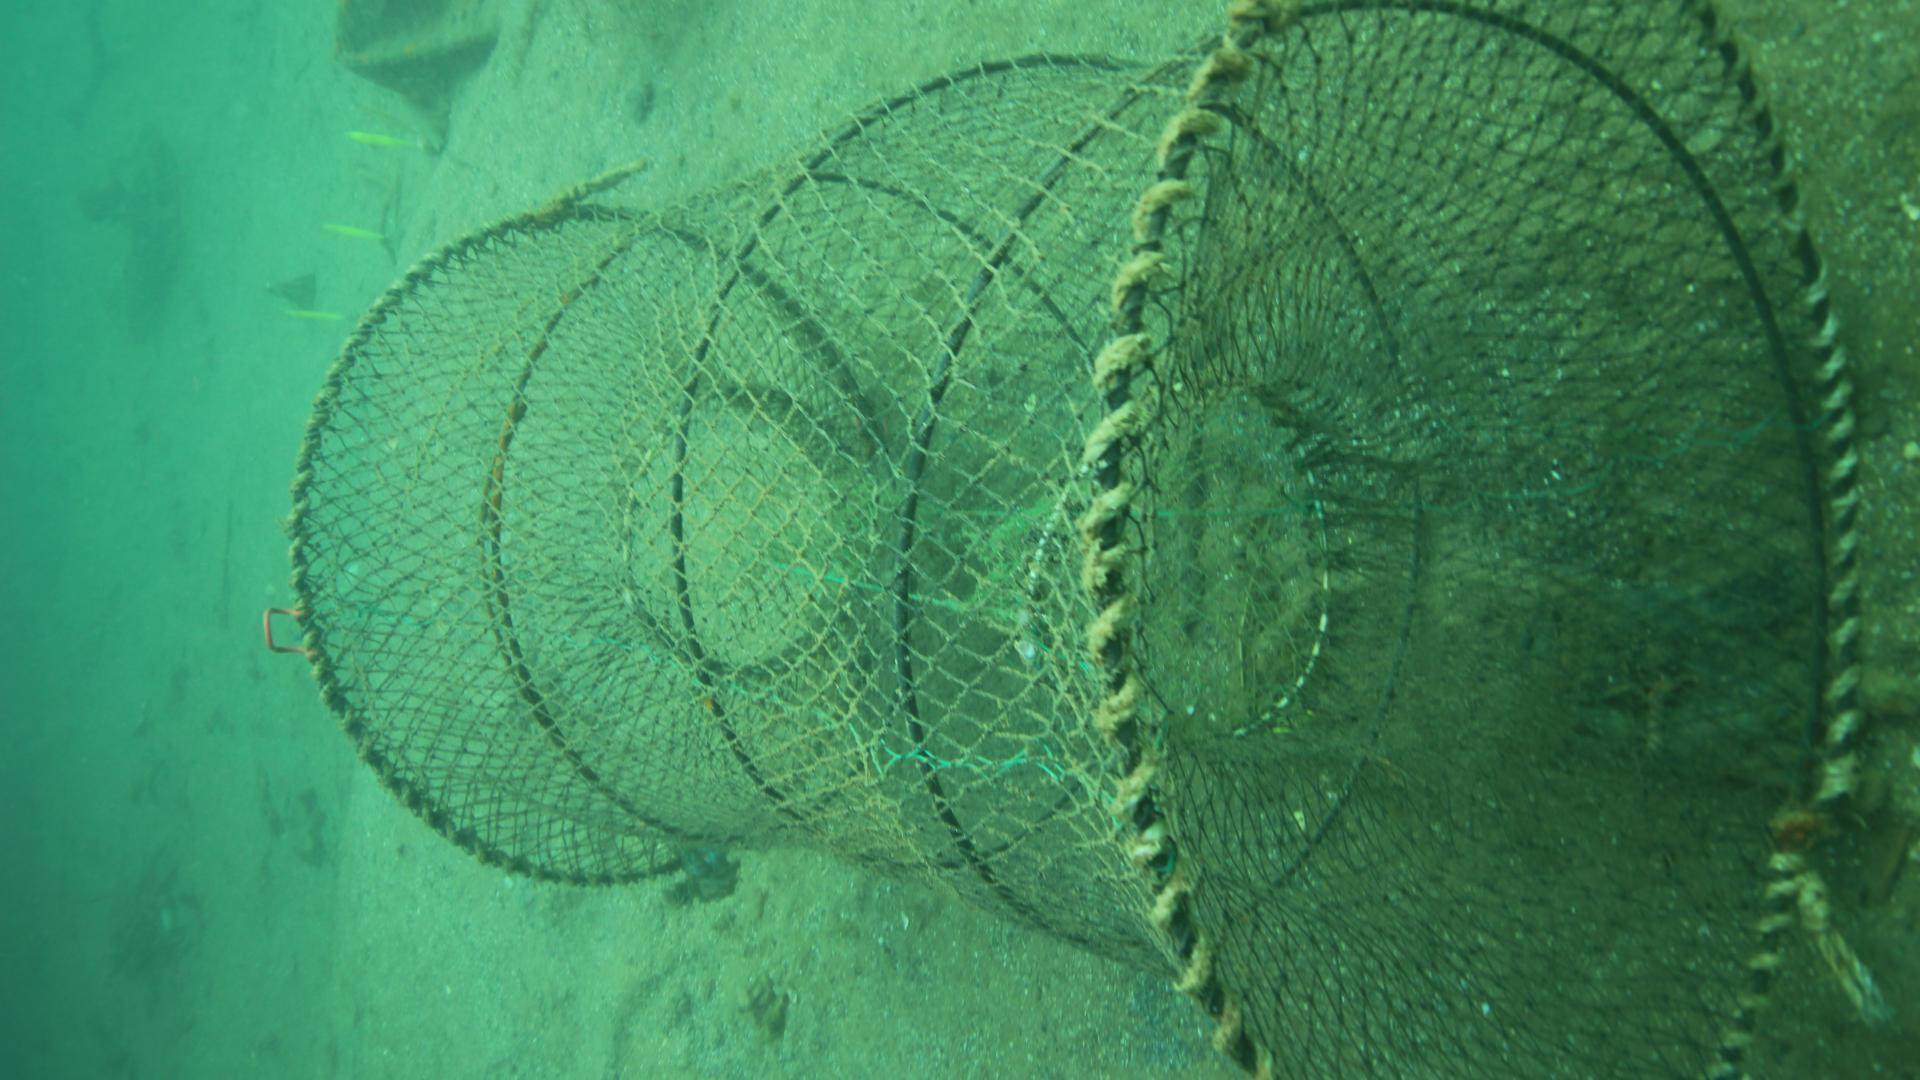spring fish trap: (261, 0, 1867, 1080)
